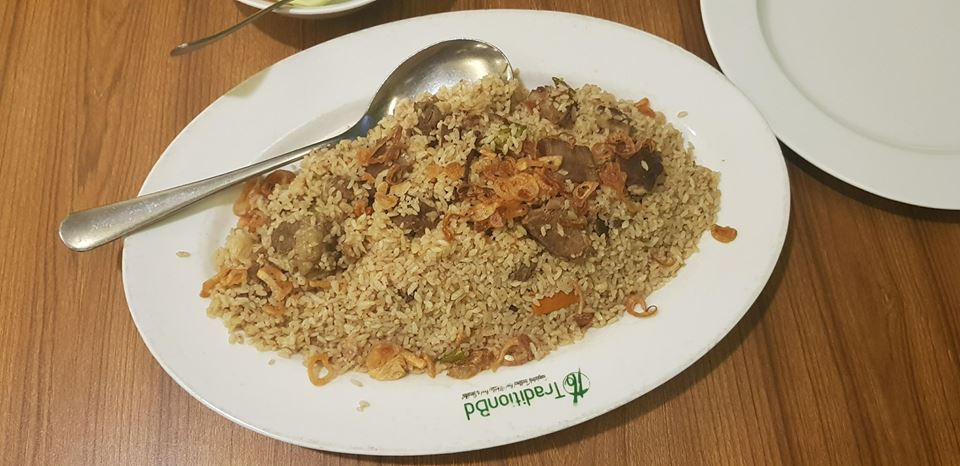tehari: (207, 67, 738, 387)
